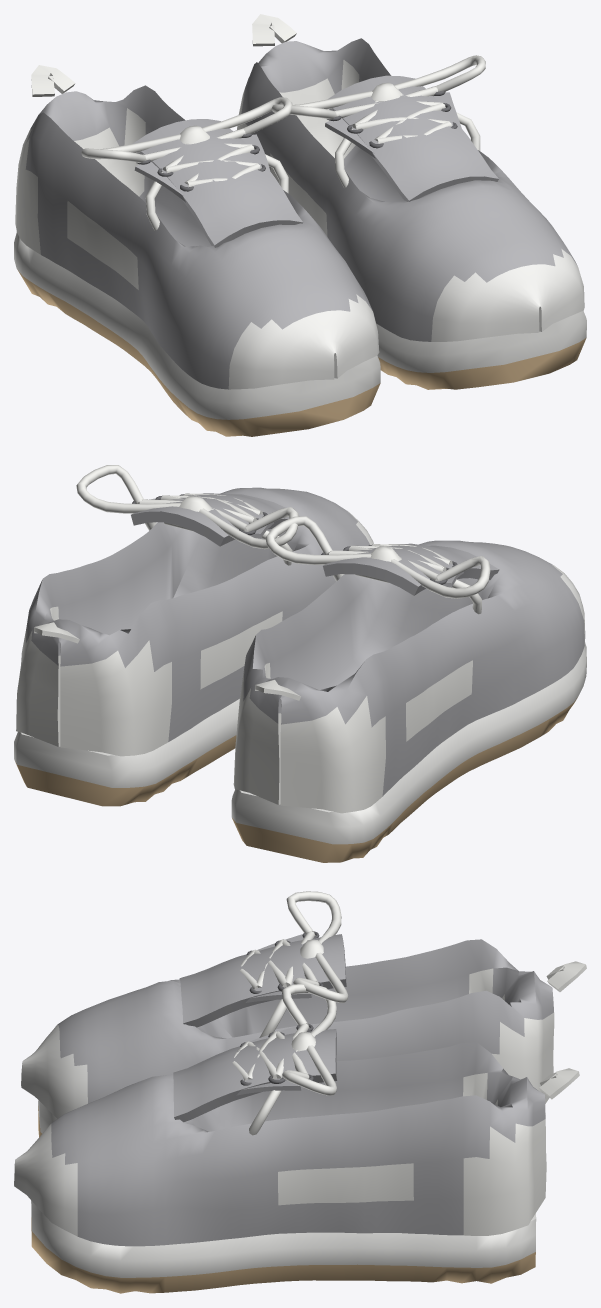
The model's file is textiles_trainers_tidy.fbx.
The picture shows the model from 3 angles, top to bottom: view 1: azimuth 30°, elevation 25°; view 2: azimuth 150°, elevation 25°; view 3: azimuth 270°, elevation 25°; orthographic projection. The views are drawn at different scales.
Visible parts, largest first — view 1: textiles_trainers_tidy; view 2: textiles_trainers_tidy; view 3: textiles_trainers_tidy.
Part boxes in pixels (x1,y1,x2,y2): textiles_trainers_tidy: [14, 14, 586, 436]; textiles_trainers_tidy: [14, 465, 586, 862]; textiles_trainers_tidy: [14, 891, 586, 1293].
Size of the model in its own units: 0.246 by 0.131 by 0.3058.
